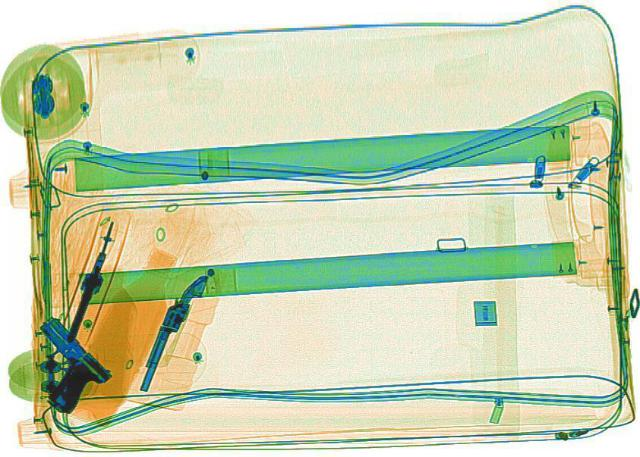Gun: (124, 260, 220, 397), (5, 308, 121, 414)
